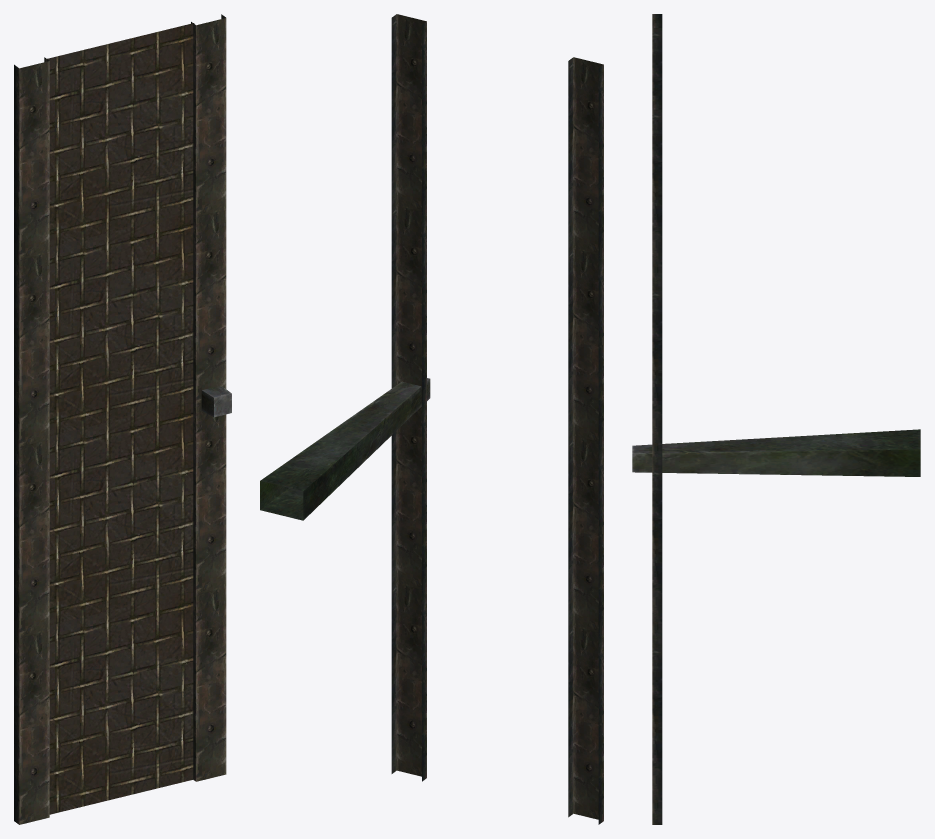
The model's file is juqing_fuben_285_dilao_01.obj.
The picture shows the model from 3 angles, left to right: view 1: azimuth 30°, elevation 25°; view 2: azimuth 150°, elevation 25°; view 3: azimuth 270°, elevation 25°; orthographic projection. The views are drawn at different scales.
Parts seen in each view (by area): view 1: juqing_fuben_285_dilao_01; view 2: juqing_fuben_285_dilao_01; view 3: juqing_fuben_285_dilao_01.
Boxes of the visible parts, x1,y1,x2,y2 form: juqing_fuben_285_dilao_01: (14,14,231,824); juqing_fuben_285_dilao_01: (260,14,603,824); juqing_fuben_285_dilao_01: (632,14,920,824).
Size of the model in its own units: 128 by 448 by 163.
2 materials, 2 textured.
